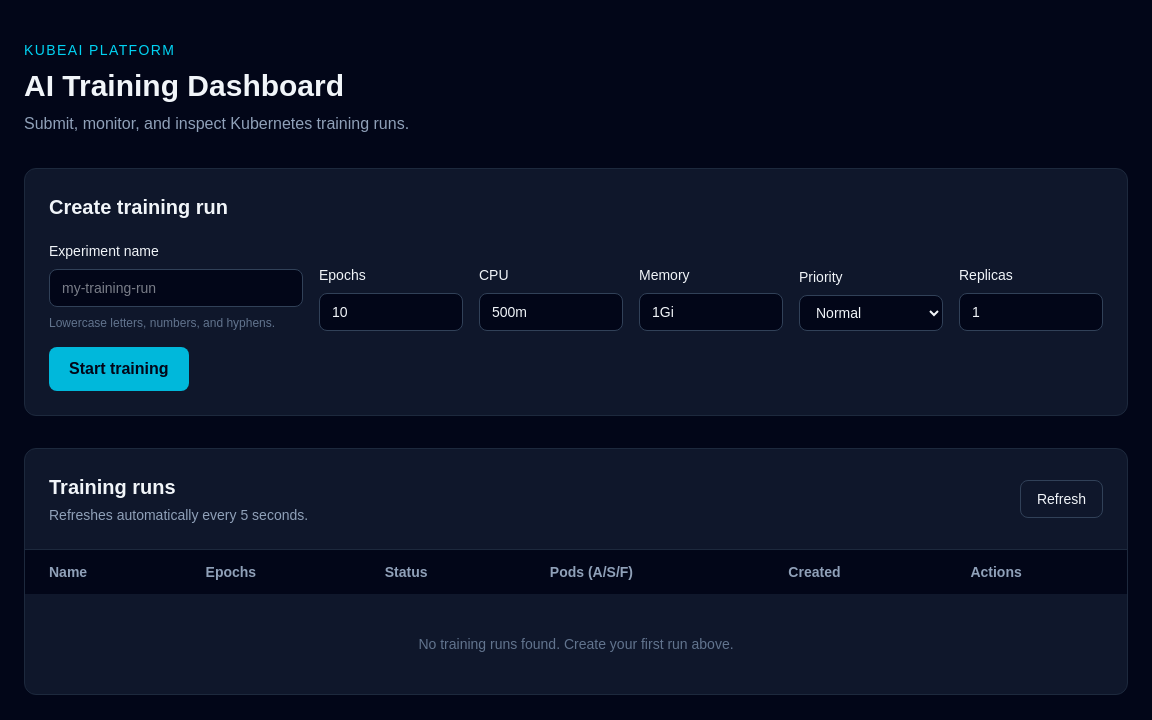
it: Home dashboard › submits a training run with form values and loads its logs
Expected: the text "No training runs found. Create your first run above." is shown, left=25, top=594, right=1127, bottom=694
In the field with placeholder "my-training-run": [176, 288] box left=49, top=269, right=303, bottom=307, type "resnet"
Replace the text in the number field labelled "Epochs" with "20": [391, 312] box left=319, top=293, right=463, bottom=331
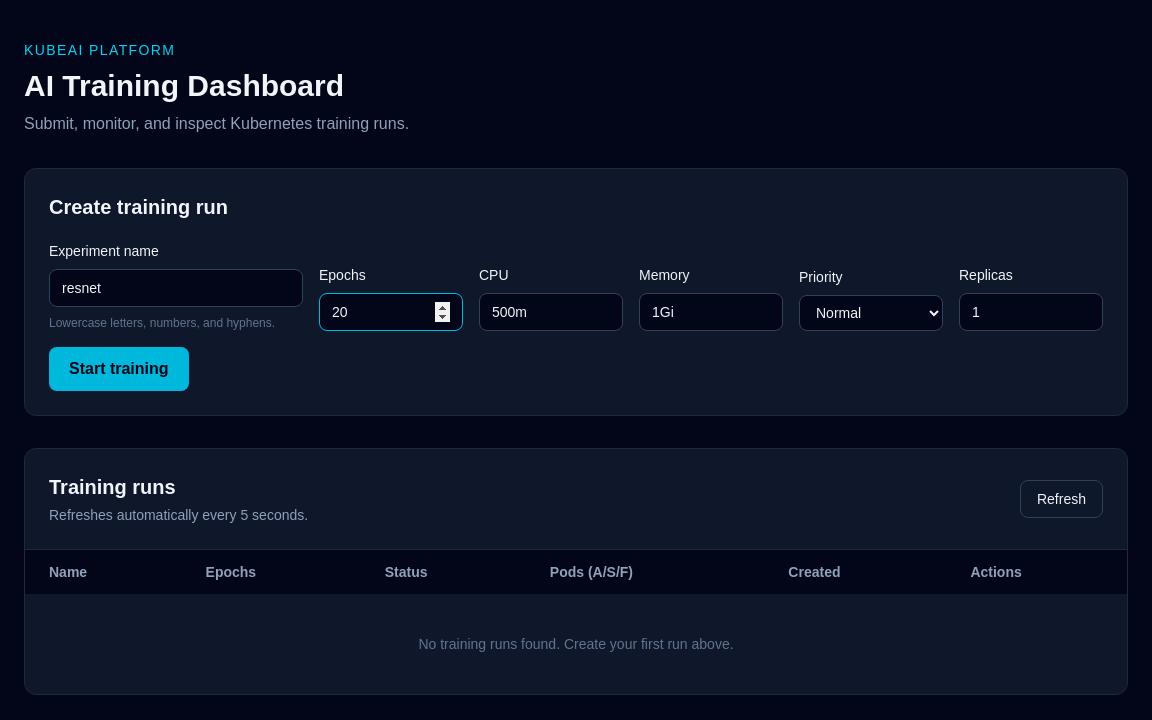
In the field with placeholder "500m": [551, 312] box left=479, top=293, right=623, bottom=331, type "1"
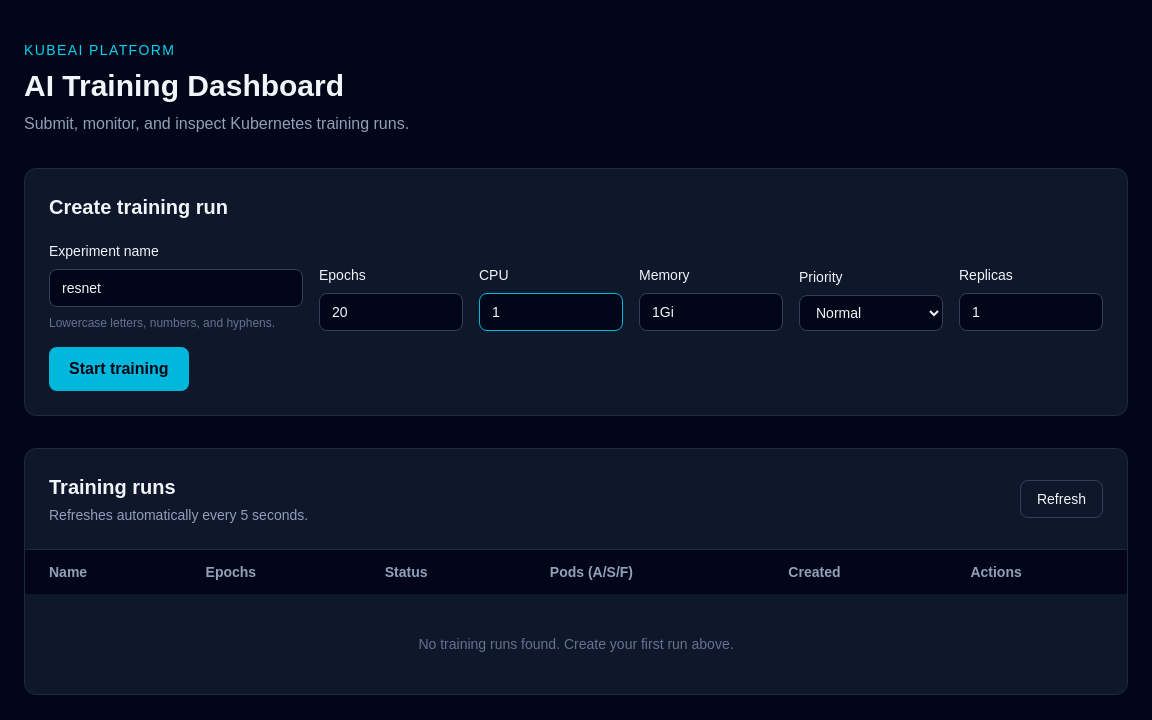
In the field with placeholder "1Gi": [711, 312] box left=639, top=293, right=783, bottom=331, type "2Gi"
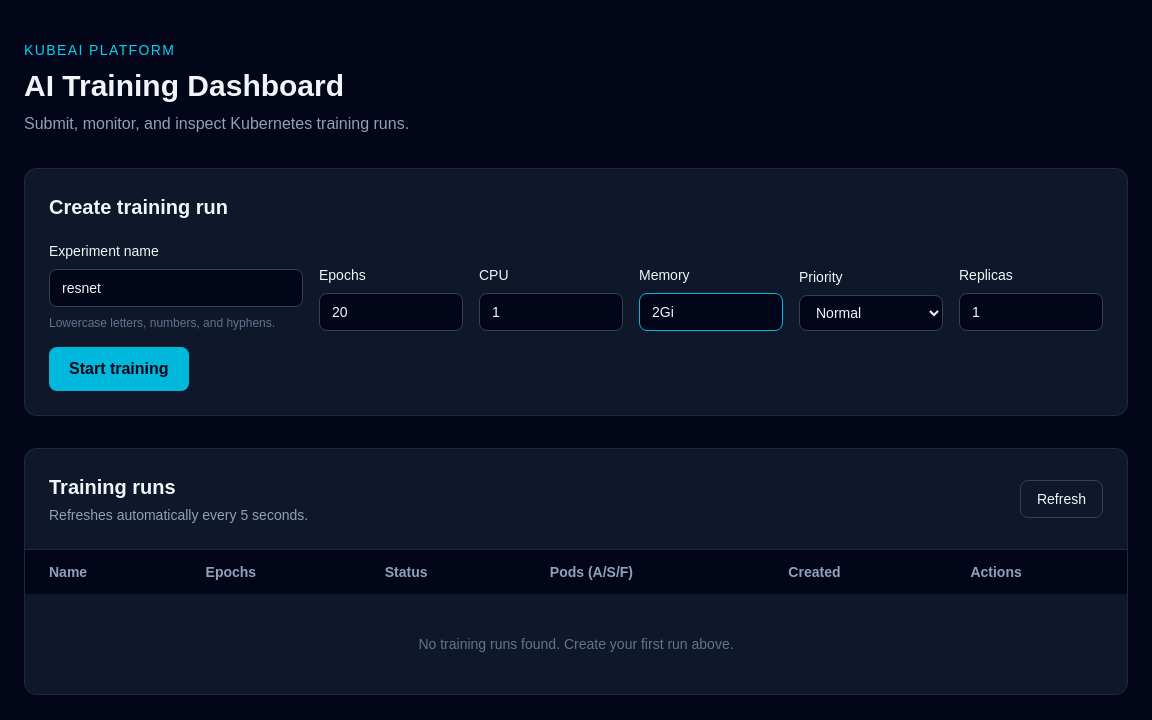
Select "High" in the dropdown labelled "Priority": [871, 313] box left=799, top=295, right=943, bottom=331
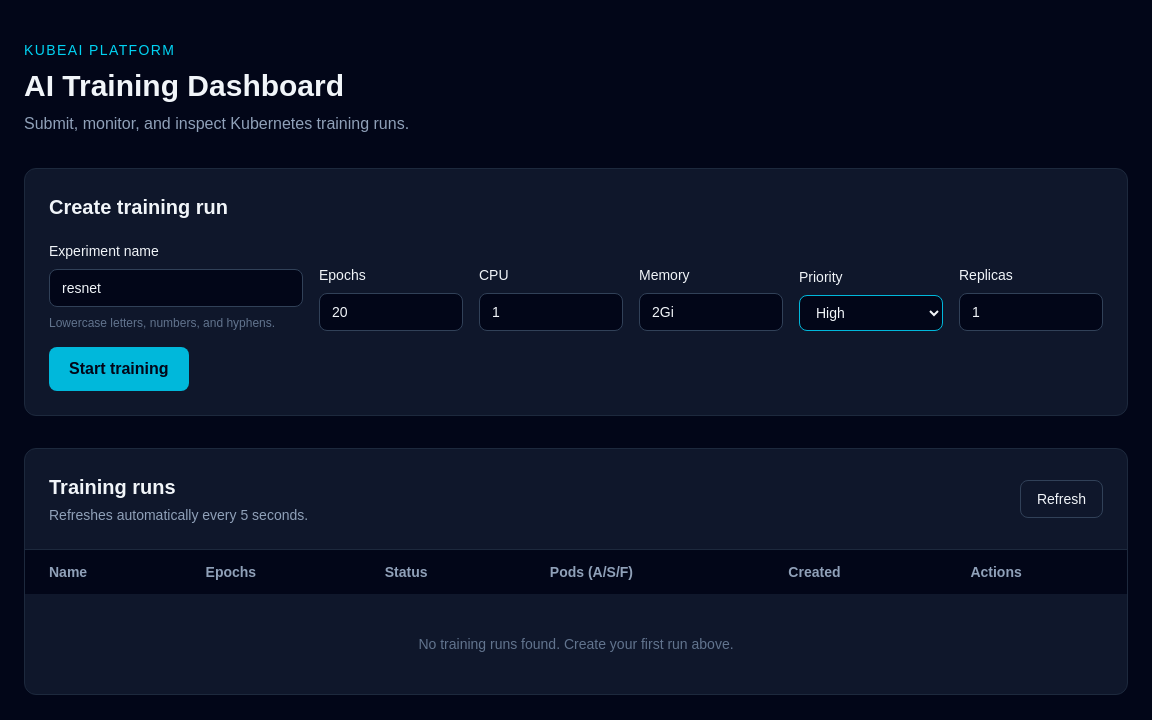
Replace the text in the number field labelled "Replicas" with "2": [1031, 312] box left=959, top=293, right=1103, bottom=331
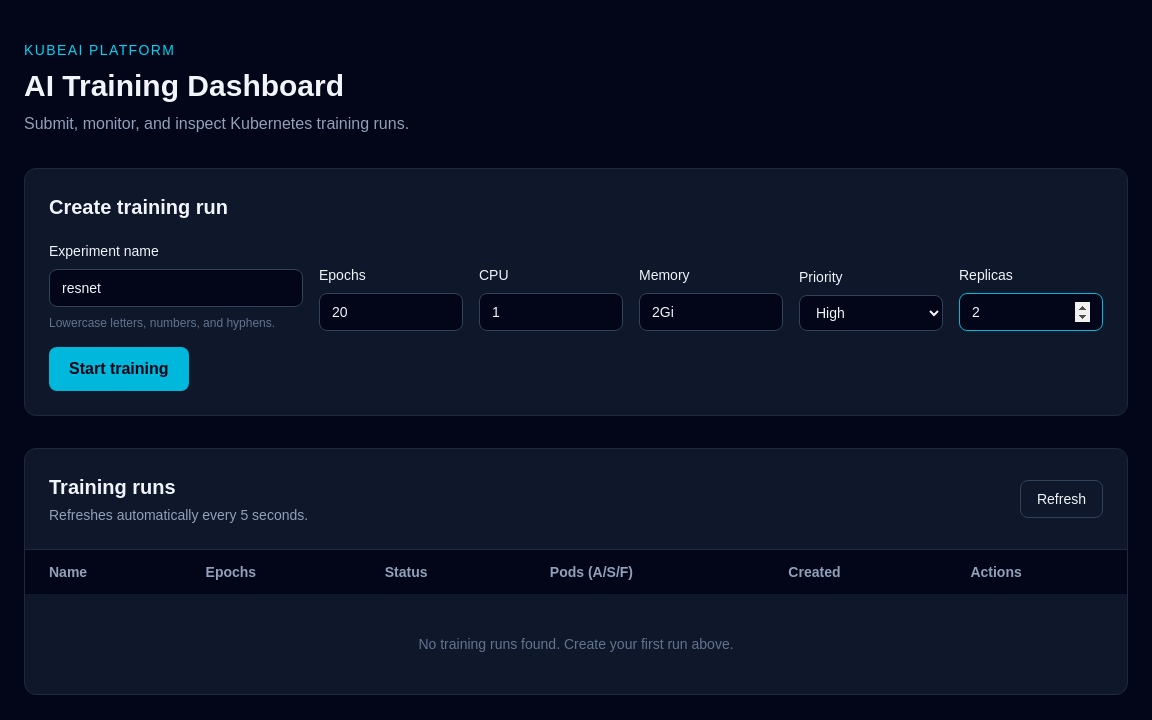
Click the button "Start training": [119, 369] box left=49, top=347, right=189, bottom=391
(page scrolled)
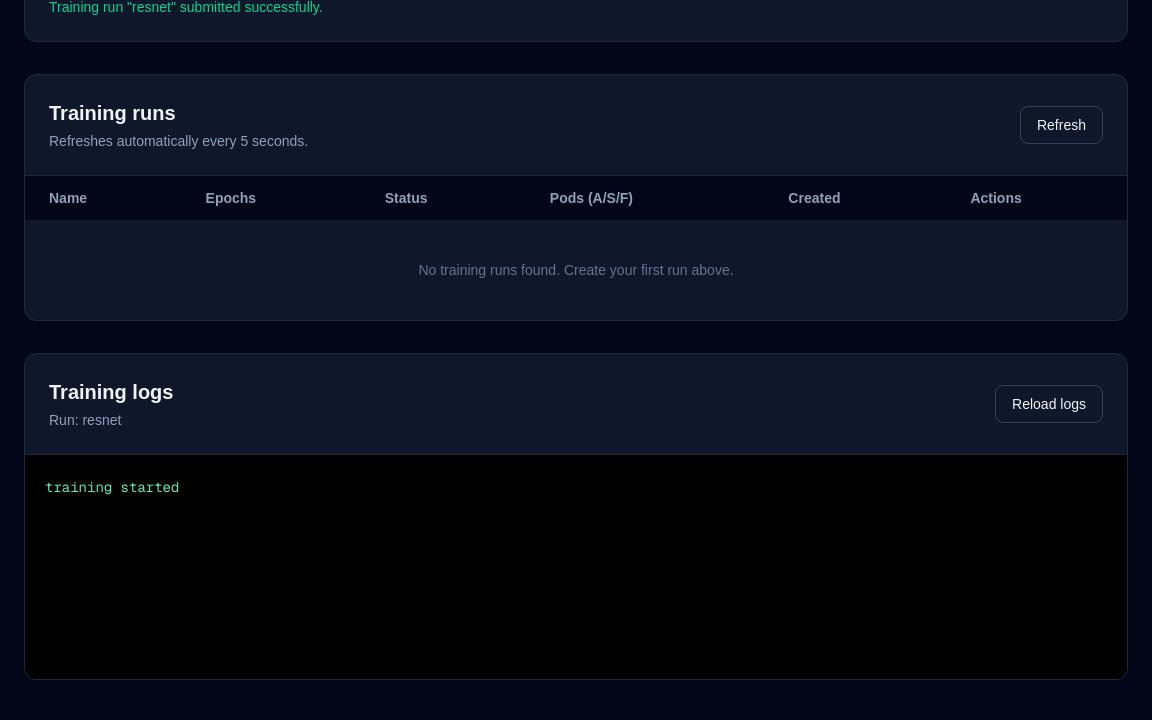
Expected: the message reads "Training run \"resnet\" submitted successfully.", left=49, top=0, right=323, bottom=15
Expected: the text "training started" is shown, left=45, top=478, right=179, bottom=496
Expected: the text "Run: resnet" is shown, left=49, top=412, right=121, bottom=428
